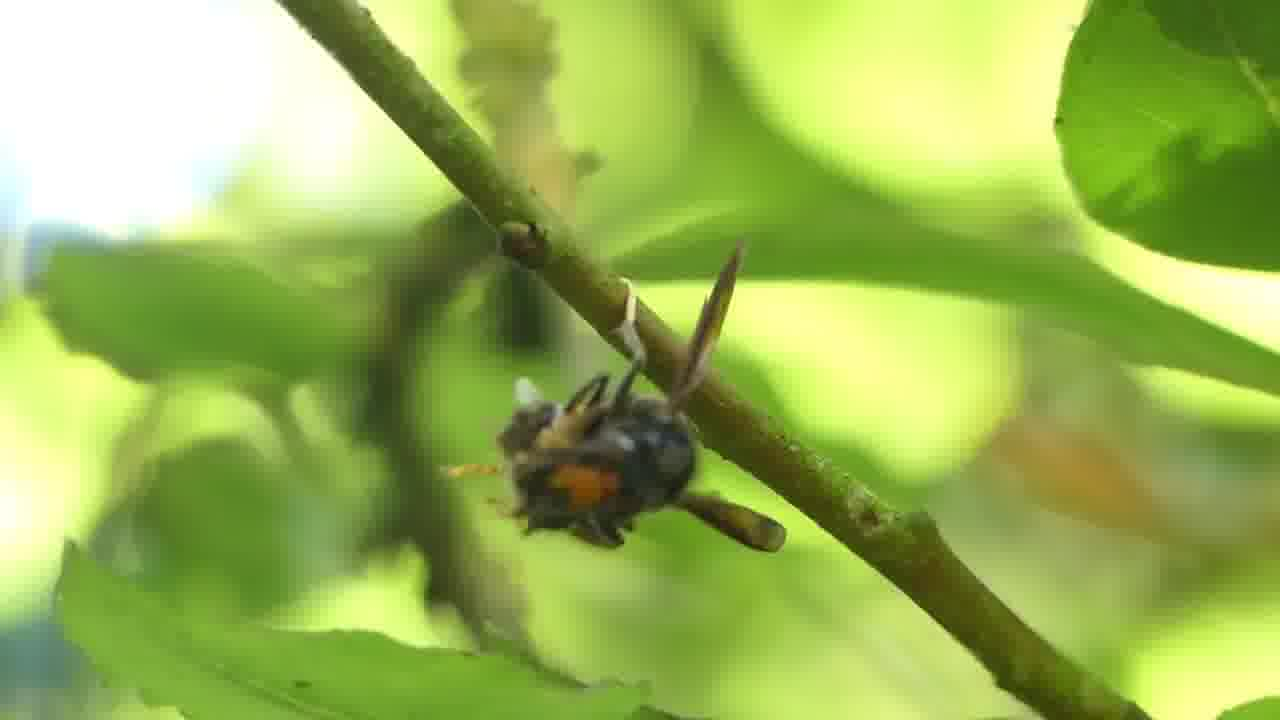hornet: (469, 307, 816, 557)
